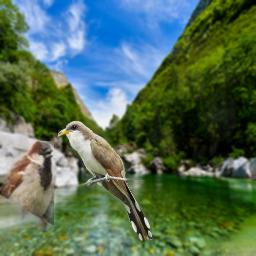Cuckoo: (58, 121, 152, 241)
Sparrow: (0, 141, 54, 231)
